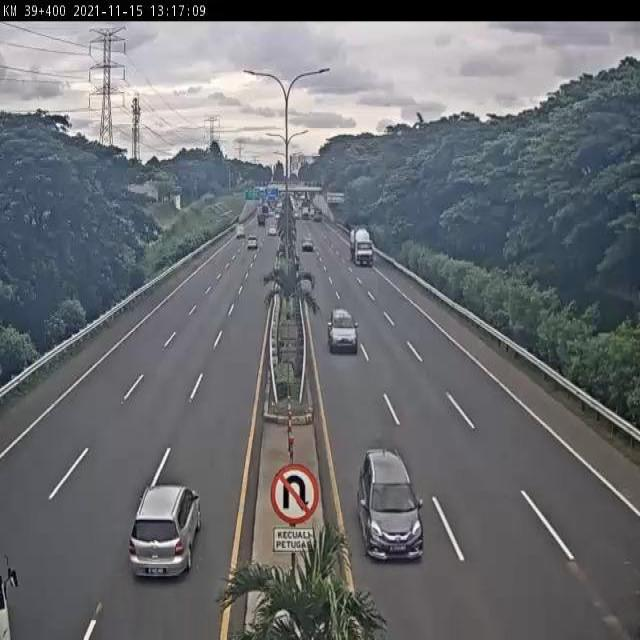car: (357, 447, 428, 562), (126, 479, 202, 581), (326, 308, 360, 355)
truck-xl-: (347, 224, 376, 267)
